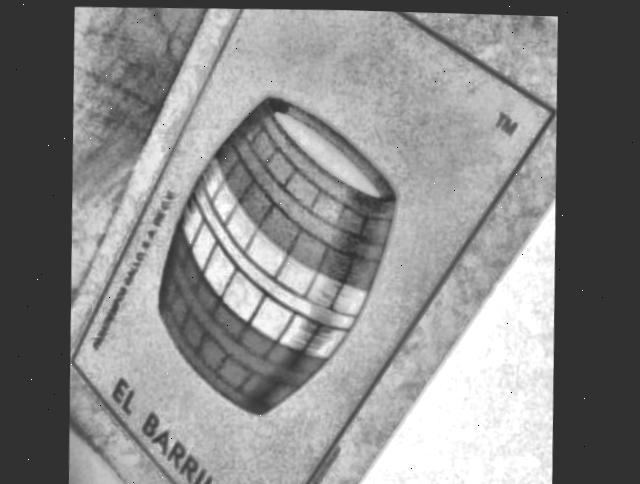El Barril: (74, 7, 555, 484)
